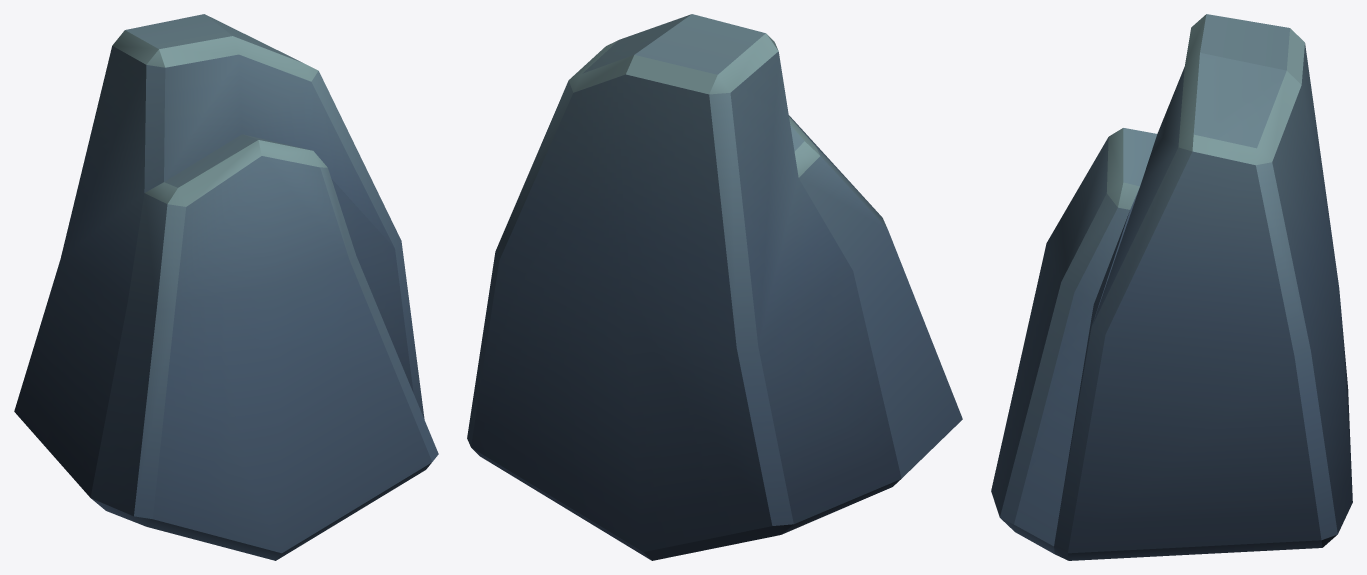
File: rock_medium_2.glb
3 renders of one model, left to right at view 1: azimuth 30°, elevation 25°; view 2: azimuth 150°, elevation 25°; view 3: azimuth 270°, elevation 25°, orthographic. The views are drawn at different scales.
Visible parts, largest first — view 1: rock_medium_2; view 2: rock_medium_2; view 3: rock_medium_2.
Boxes of the visible parts, left/top/right/bottom form: rock_medium_2: left=14, top=14, right=438, bottom=560; rock_medium_2: left=467, top=14, right=962, bottom=560; rock_medium_2: left=991, top=14, right=1352, bottom=560.
Bounding box in the file's own units: 1.68 × 2.33 × 1.53.
Materials: 1 (1 with a texture image).
